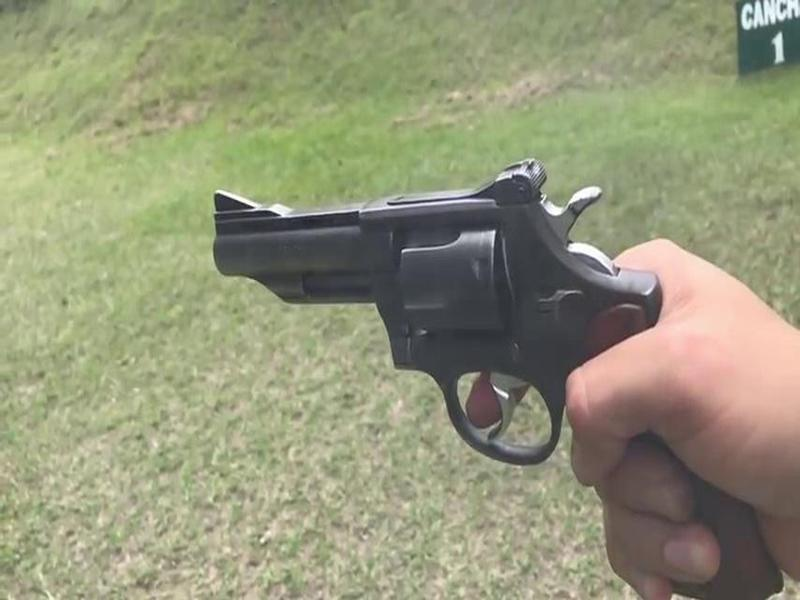Revolver: (193, 137, 705, 493)
